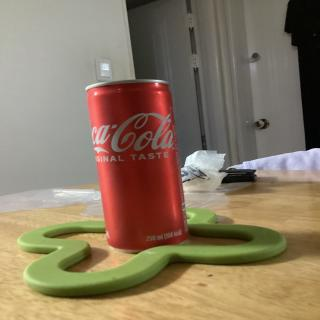cocacola: (81, 75, 199, 252)
